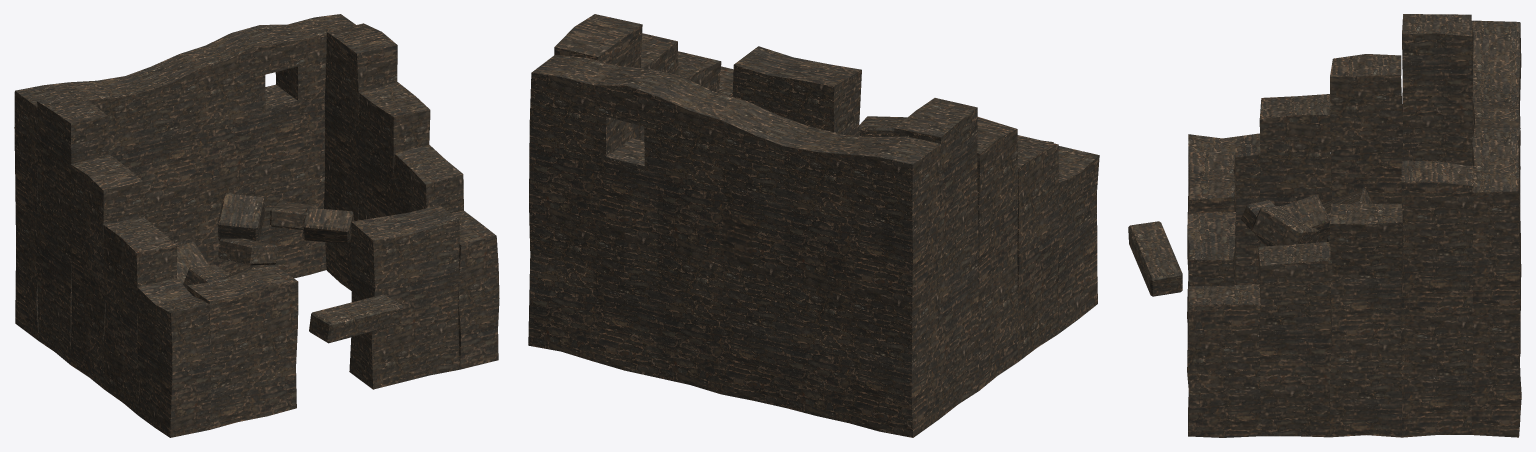
The model's file is house_ruin.glb.
The picture shows the model from 3 angles, left to right: view 1: azimuth 30°, elevation 25°; view 2: azimuth 150°, elevation 25°; view 3: azimuth 270°, elevation 25°; orthographic projection. The views are drawn at different scales.
Parts seen in each view (by area): view 1: house_ruin; view 2: house_ruin; view 3: house_ruin.
Part boxes in pixels (x1=…): house_ruin: x1=14, y1=14, x2=499, y2=437; house_ruin: x1=528, y1=14, x2=1099, y2=437; house_ruin: x1=1128, y1=14, x2=1521, y2=437.
Size of the model in its own units: 6.06 by 4.28 by 5.95.
1 material, 1 textured.
